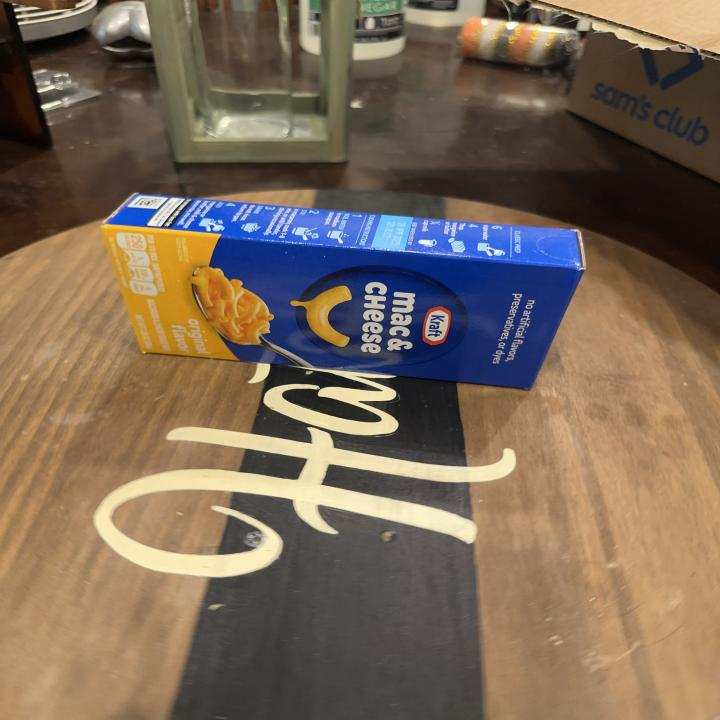Mac-And-Cheese: (101, 191, 587, 394)
